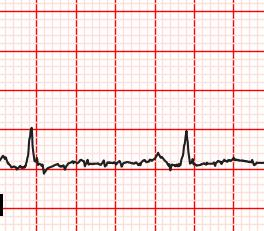Poor R Progression: (177, 128, 196, 168)
